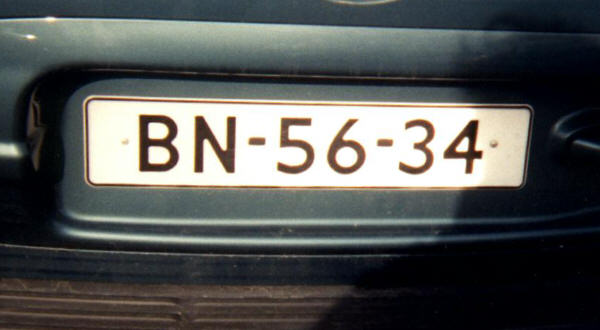license_plate: (83, 94, 533, 189)
